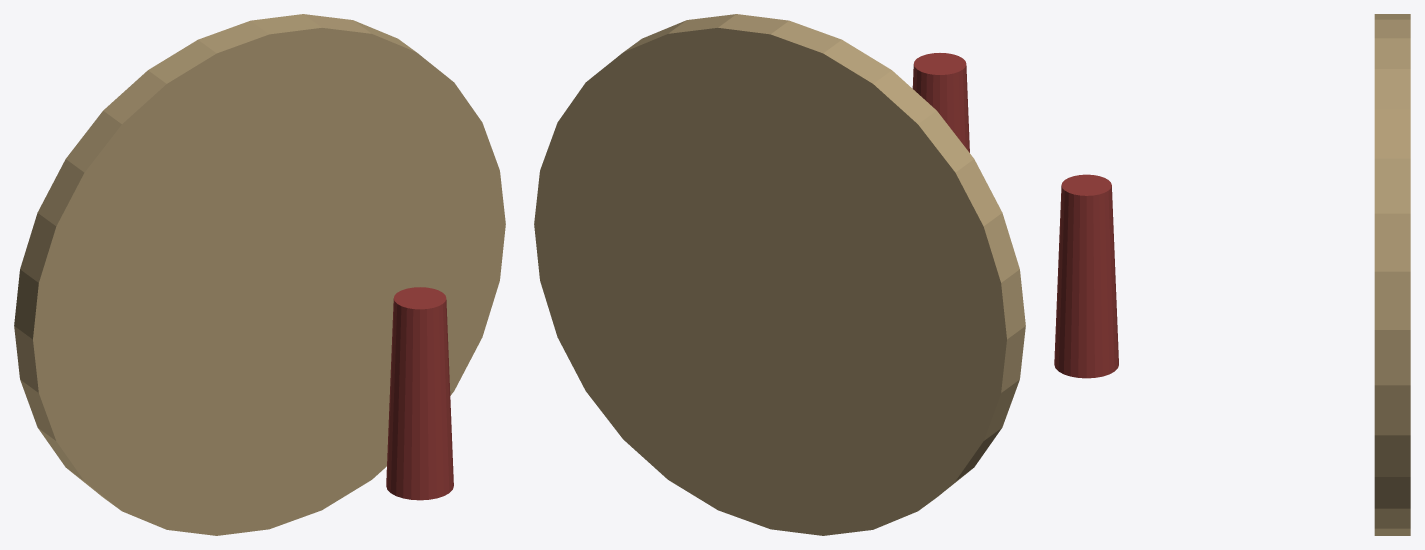
The model's file is bronze_mirror.glb.
3 renders of one model, left to right at view 1: azimuth 30°, elevation 25°; view 2: azimuth 150°, elevation 25°; view 3: azimuth 270°, elevation 25°, orthographic. The views are drawn at different scales.
Visible parts, largest first — view 1: SM_BronzeMirror; view 2: SM_BronzeMirror; view 3: SM_BronzeMirror.
Part boxes in pixels (x1,y1,x2,y2): SM_BronzeMirror: (14, 14, 505, 535); SM_BronzeMirror: (534, 14, 1025, 535); SM_BronzeMirror: (1054, 14, 1410, 535).
Bounding box in the file's own units: 0.29 × 0.29 × 0.198.
